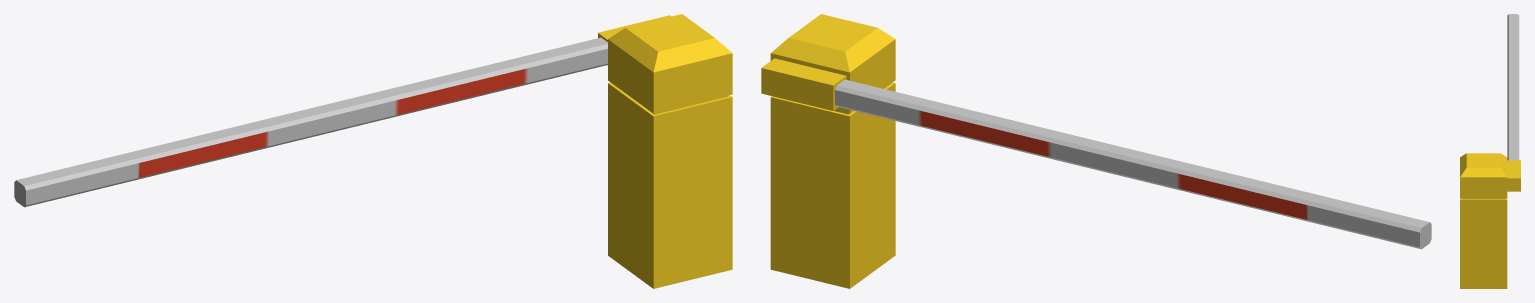
Rendered from group_boundary.fbx.
3 renders of one model, left to right at view 1: azimuth 30°, elevation 25°; view 2: azimuth 150°, elevation 25°; view 3: azimuth 270°, elevation 25°, orthographic. The views are drawn at different scales.
Visible parts, largest first — view 1: fbx_boundary, fbx_boundarystick; view 2: fbx_boundary, fbx_boundarystick; view 3: fbx_boundary, fbx_boundarystick.
Boxes of the visible parts, bbox=[...] form: fbx_boundary: bbox=[608, 14, 732, 288]; fbx_boundarystick: bbox=[14, 15, 671, 207]; fbx_boundary: bbox=[770, 14, 895, 288]; fbx_boundarystick: bbox=[761, 58, 1431, 249]; fbx_boundary: bbox=[1460, 153, 1507, 288]; fbx_boundarystick: bbox=[1507, 14, 1520, 191].
Bounding box in the file's own units: 8.35 × 2.78 × 1.29.
Materials: 1 (1 with a texture image).
